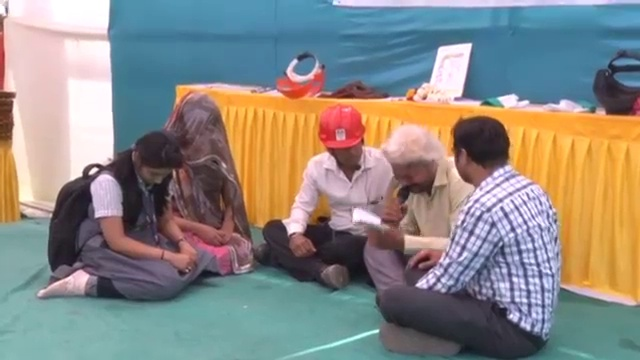helmet: (315, 107, 374, 155)
helmet_off: (448, 115, 517, 195), (383, 129, 448, 199), (167, 92, 227, 161), (123, 131, 185, 190)
helmet_on: (315, 112, 374, 177)
person: (359, 114, 566, 359), (39, 126, 206, 305), (256, 98, 403, 285), (150, 88, 254, 273), (363, 125, 474, 284)
